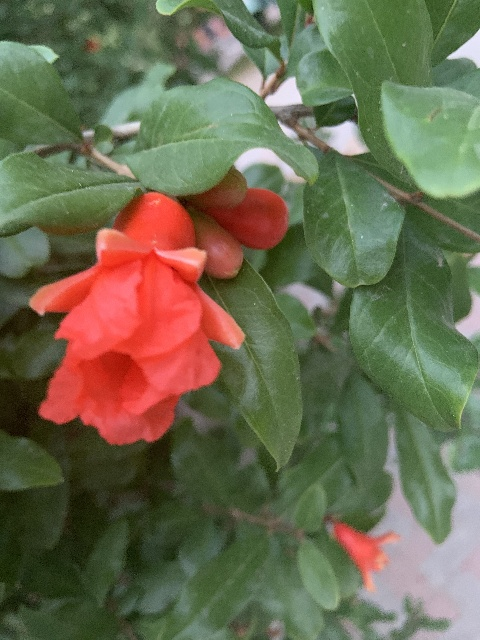bud: (212, 189, 290, 248), (193, 216, 242, 280), (189, 167, 248, 208)
flower: (29, 192, 245, 446), (332, 521, 399, 592)
